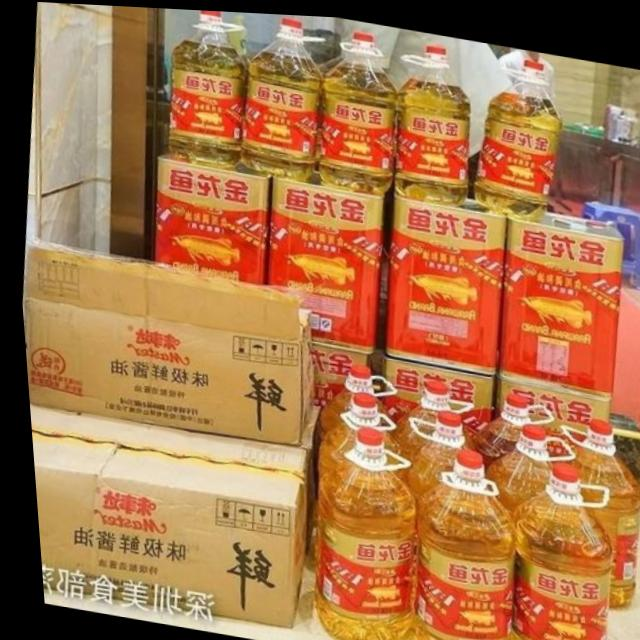box: (23, 403, 300, 624), (19, 241, 313, 438), (23, 399, 318, 494)
